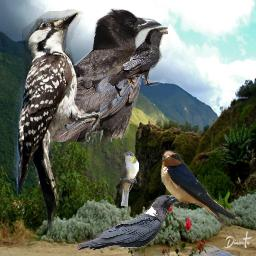Crow: (46, 8, 163, 142), (76, 195, 180, 251), (107, 27, 168, 86)
Cuckoo: (119, 151, 139, 206)
Swallow: (160, 150, 248, 249)
Woodpecker: (10, 7, 100, 234)
